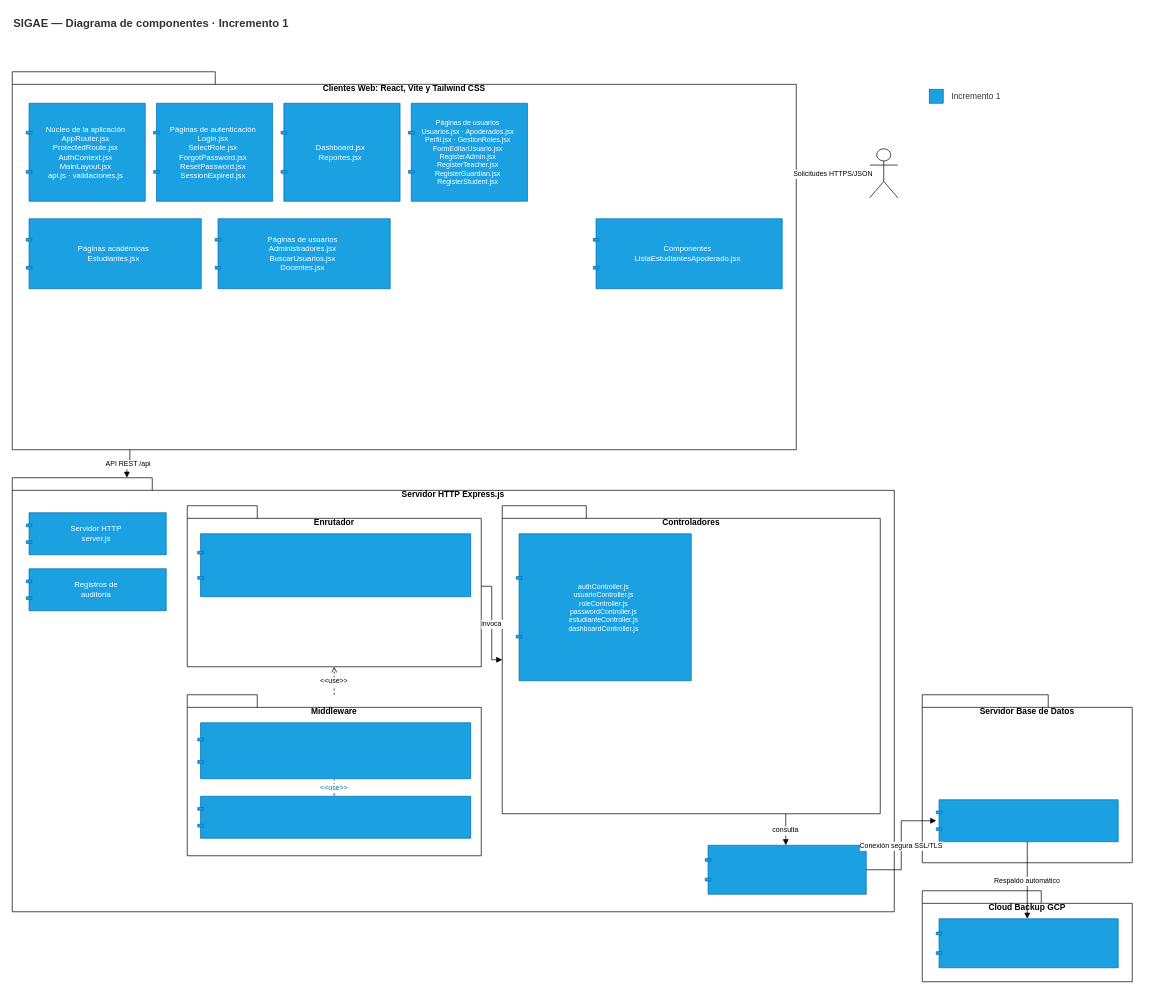
This 1173x994 diagram has some shape labels left out. The centre of each missing label's shape, as x and y in pixels:
Almacenamiento de respaldos Copias diarias: (1027,943)
authMiddleware.js rateLimiter.js validation.js: (334,750)
authRoutes.js · usuarioRoutes.js estudianteRoutes.js dashboardRoutes.js: (334,565)
Conexión Base de Datos config/db.js · mysql2: (785,869)
MySQL SIGAE.sql: (1027,820)
uploadFotoPerfil.js multer: (334,817)
Usuario: (883,173)
